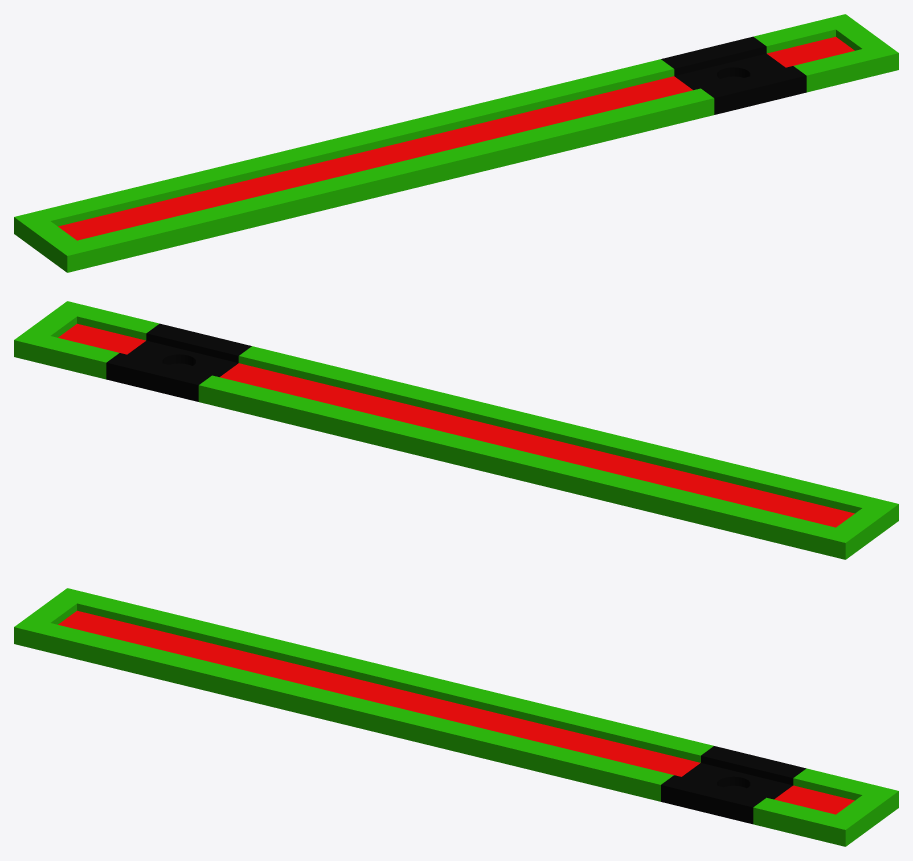
Rendered from level1_v1.FBX.
The picture shows the model from 3 angles, top to bottom: view 1: azimuth 30°, elevation 25°; view 2: azimuth 150°, elevation 25°; view 3: azimuth 330°, elevation 25°; orthographic projection.
Visible parts, largest first — view 1: golf_level_1; view 2: golf_level_1; view 3: golf_level_1.
Part boxes in pixels (x1,y1,x2,y2): golf_level_1: [14, 14, 898, 272]; golf_level_1: [14, 301, 898, 559]; golf_level_1: [14, 588, 898, 846].
Size of the model in its own units: 900 by 17.5 by 100.
